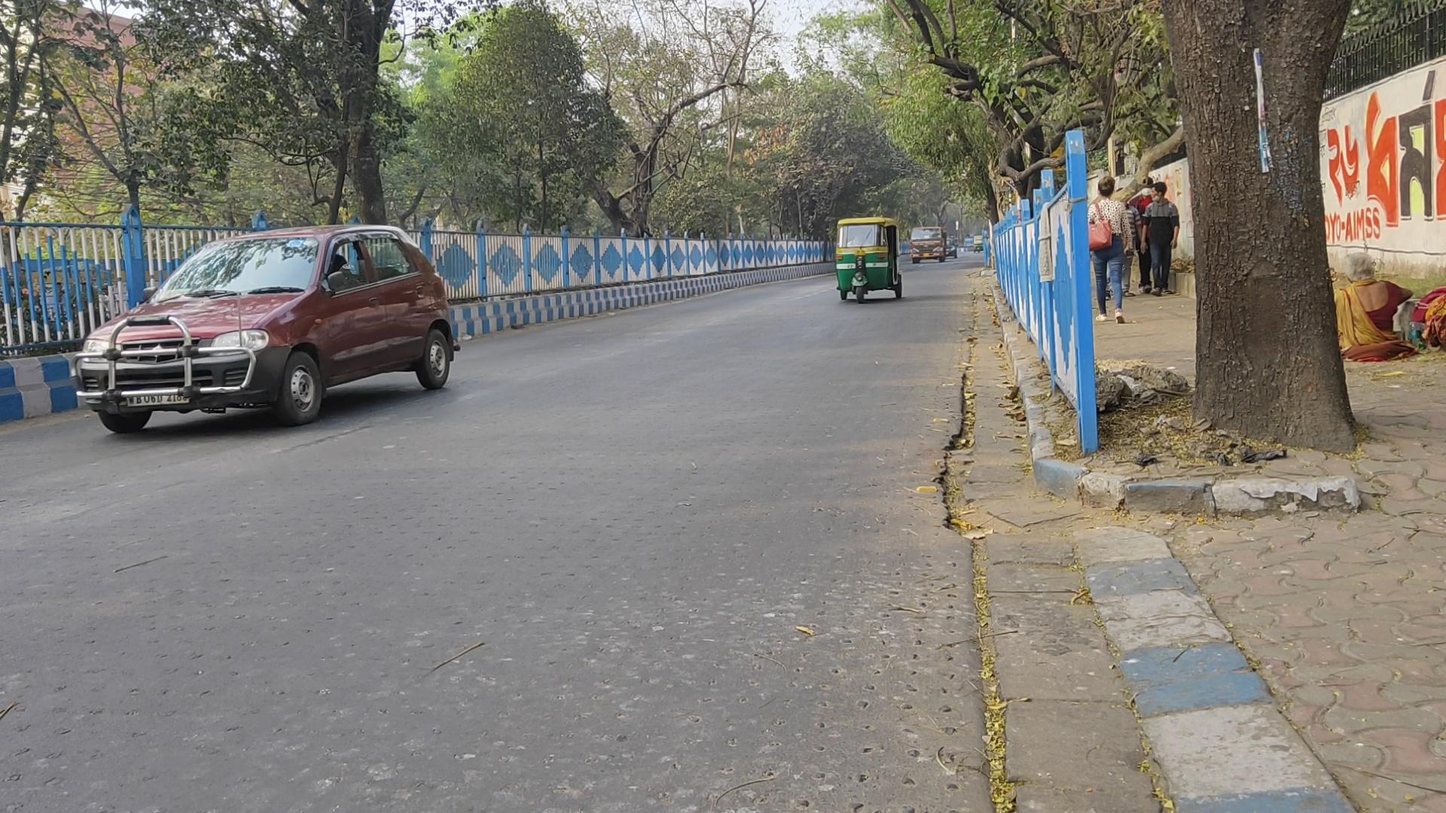Auto: (834, 217, 905, 302), (972, 235, 986, 254)
car: (77, 225, 459, 434)
truck: (909, 227, 948, 263)
